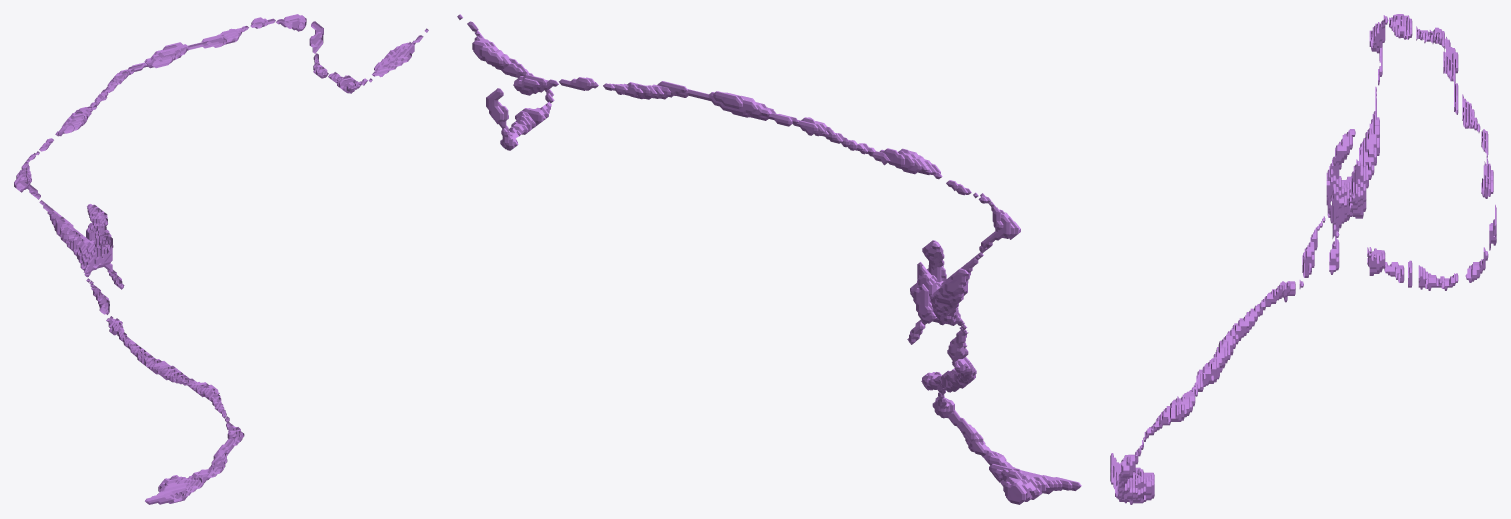
File: SVV_SIBDL.gltf
3 renders of one model, left to right at view 1: azimuth 30°, elevation 25°; view 2: azimuth 150°, elevation 25°; view 3: azimuth 270°, elevation 25°, orthographic. The views are drawn at different scales.
Parts seen in each view (by area): view 1: SIBDL; view 2: SIBDL; view 3: SIBDL.
Boxes of the visible parts, bbox=[...] form: SIBDL: bbox=[14, 14, 428, 504]; SIBDL: bbox=[457, 14, 1081, 504]; SIBDL: bbox=[1110, 14, 1496, 504].
Bounding box in the file's own units: 100404 × 81471 × 54690.
